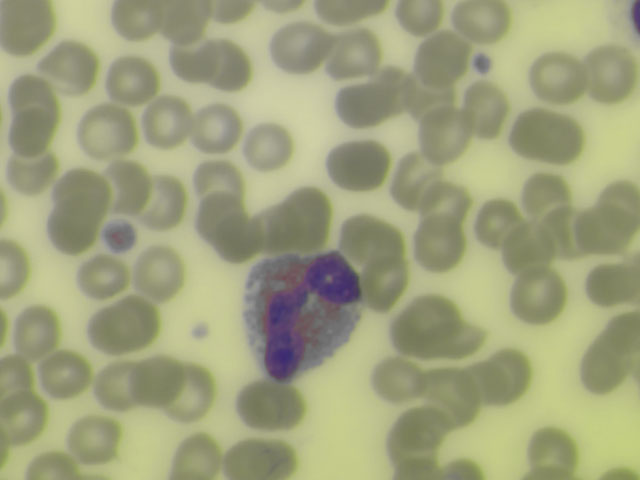Platelets: (98, 216, 139, 256), (186, 319, 214, 345), (471, 50, 494, 75)
RBC: (452, 1, 517, 44), (239, 382, 301, 426), (341, 75, 392, 128), (226, 434, 284, 479), (91, 307, 153, 349), (208, 37, 254, 93), (7, 68, 56, 119), (245, 123, 293, 172), (507, 108, 555, 157), (584, 53, 632, 102), (530, 53, 578, 102), (407, 74, 455, 123), (419, 30, 467, 79), (465, 81, 513, 130), (419, 111, 467, 160), (331, 29, 379, 78), (273, 23, 321, 72), (143, 96, 191, 145), (169, 32, 217, 81), (44, 204, 92, 253), (140, 176, 188, 225), (100, 162, 148, 211), (58, 169, 106, 218), (108, 53, 156, 102), (78, 107, 126, 156), (170, 431, 218, 480), (168, 368, 216, 417), (136, 358, 184, 407), (91, 361, 139, 410), (72, 416, 120, 465), (39, 351, 87, 400), (14, 306, 62, 355), (8, 145, 56, 194), (5, 106, 53, 155), (47, 43, 95, 92), (541, 207, 589, 256), (505, 225, 553, 274), (514, 275, 562, 324), (521, 170, 569, 219), (472, 196, 520, 245), (416, 220, 464, 269), (419, 179, 467, 228), (394, 153, 442, 202), (362, 259, 410, 308), (345, 212, 393, 261), (541, 112, 589, 161), (188, 104, 236, 153), (334, 141, 382, 190), (425, 369, 473, 418), (389, 419, 437, 468), (492, 347, 540, 396), (529, 429, 577, 478), (374, 355, 422, 404), (372, 174, 420, 223), (133, 247, 181, 296), (74, 253, 122, 302), (577, 350, 625, 399), (592, 313, 640, 362), (589, 260, 637, 309), (592, 180, 640, 229), (578, 208, 626, 257), (499, 167, 547, 216), (195, 154, 243, 203), (199, 192, 247, 241), (216, 211, 264, 260), (252, 201, 300, 250), (286, 190, 334, 239), (1, 395, 48, 444), (1, 1, 48, 49), (421, 446, 481, 479), (319, 1, 388, 29), (164, 1, 208, 42), (114, 1, 159, 40), (1, 241, 35, 292), (468, 356, 503, 403), (396, 1, 443, 32), (26, 452, 79, 479), (1, 349, 28, 399), (207, 1, 251, 26)
WBC: (241, 253, 362, 378)
